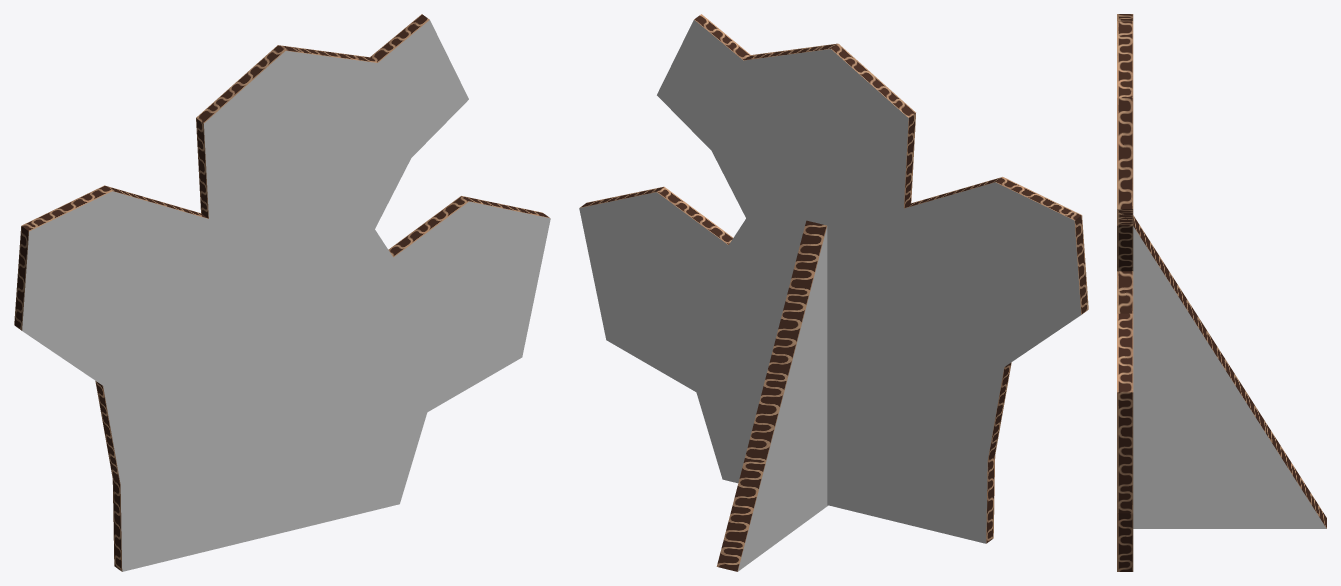
Rendered from Cactus_5.fbx.
3 renders of one model, left to right at view 1: azimuth 30°, elevation 25°; view 2: azimuth 150°, elevation 25°; view 3: azimuth 270°, elevation 25°, orthographic. The views are drawn at different scales.
Parts seen in each view (by area): view 1: Cactus 5_LOD0; view 2: Cactus 5_LOD0; view 3: Cactus 5_LOD0.
Boxes of the visible parts, bbox=[...] form: Cactus 5_LOD0: bbox=[14, 14, 550, 571]; Cactus 5_LOD0: bbox=[579, 14, 1088, 571]; Cactus 5_LOD0: bbox=[1117, 14, 1326, 571].
Bounding box in the file's own units: 314 × 274 × 105.
